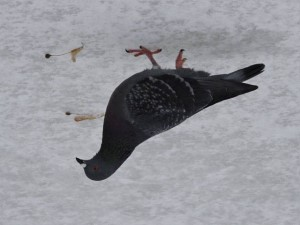pigeon: (73, 42, 267, 182)
